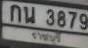letters: (10, 4, 22, 23), (23, 7, 35, 24), (45, 9, 55, 26), (79, 13, 88, 31), (57, 11, 67, 27), (68, 11, 77, 27)
province: (32, 31, 61, 45)
